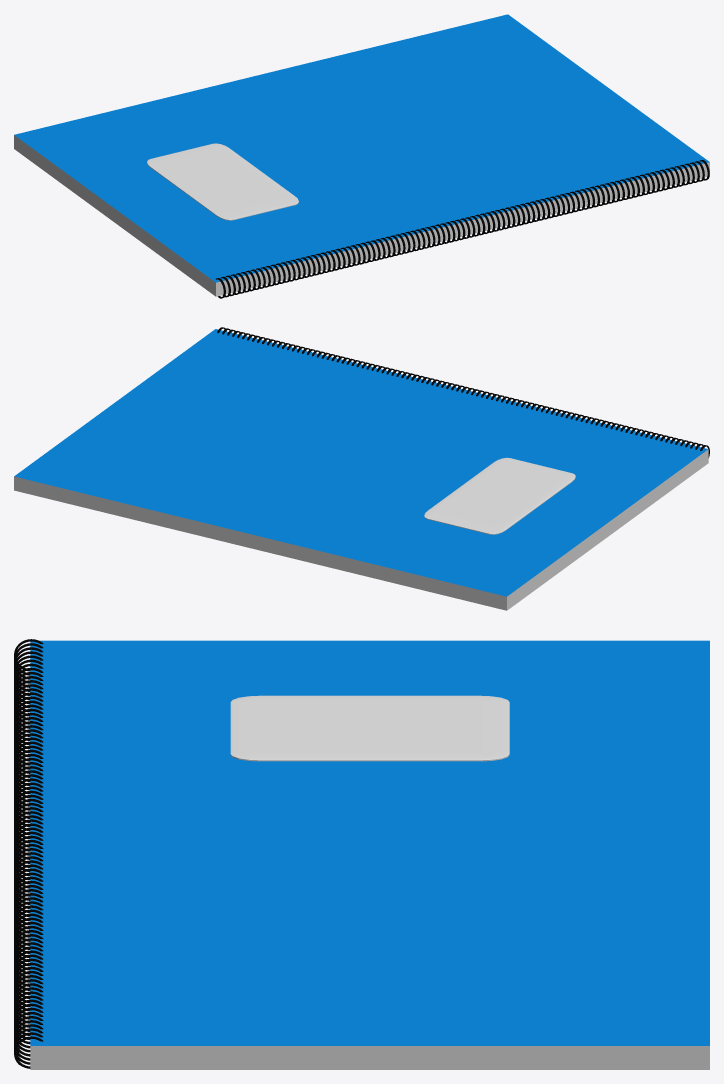
The model's file is NoteBook.fbx.
The picture shows the model from 3 angles, top to bottom: view 1: azimuth 30°, elevation 25°; view 2: azimuth 150°, elevation 25°; view 3: azimuth 270°, elevation 25°; orthographic projection. The views are drawn at different scales.
Parts seen in each view (by area): view 1: Cube.003, Circle, Roundcube; view 2: Cube.003, Roundcube, Circle; view 3: Cube.003, Roundcube, Circle.
Boxes of the visible parts, x1,y1,x2,y2 form: Cube.003: (14, 14, 709, 296); Circle: (216, 160, 709, 298); Roundcube: (147, 143, 298, 220); Cube.003: (14, 329, 708, 610); Roundcube: (424, 457, 575, 534); Circle: (217, 327, 709, 457); Cube.003: (30, 640, 709, 1069); Roundcube: (230, 695, 509, 761); Circle: (14, 639, 43, 1068).
Bounding box in the file's own units: 22.99 × 0.8385 × 16.67.
